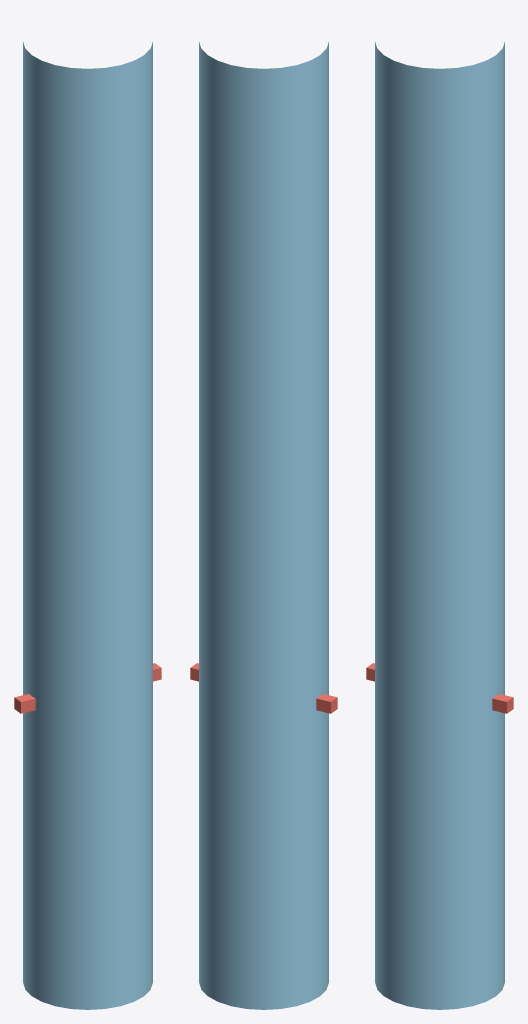
The model's file is stokes_law_viscosity_terminal_velocity.glb.
The picture shows the model from 3 angles, left to right: view 1: azimuth 30°, elevation 25°; view 2: azimuth 150°, elevation 25°; view 3: azimuth 330°, elevation 25°; orthographic projection.
Visible parts, largest first — view 1: TallTransparentGlassViscosityJar, PhotocellReferenceTimingMarks; view 2: TallTransparentGlassViscosityJar, PhotocellReferenceTimingMarks; view 3: TallTransparentGlassViscosityJar, PhotocellReferenceTimingMarks.
Boxes of the visible parts, x1,y1,x2,y2 form: TallTransparentGlassViscosityJar: (23,42,152,1009); PhotocellReferenceTimingMarks: (14,663,161,713); TallTransparentGlassViscosityJar: (199,42,328,1009); PhotocellReferenceTimingMarks: (190,663,337,713); TallTransparentGlassViscosityJar: (375,42,504,1009); PhotocellReferenceTimingMarks: (366,663,513,713).
Bounding box in the file's own units: 0.25 × 1.6 × 0.2.
